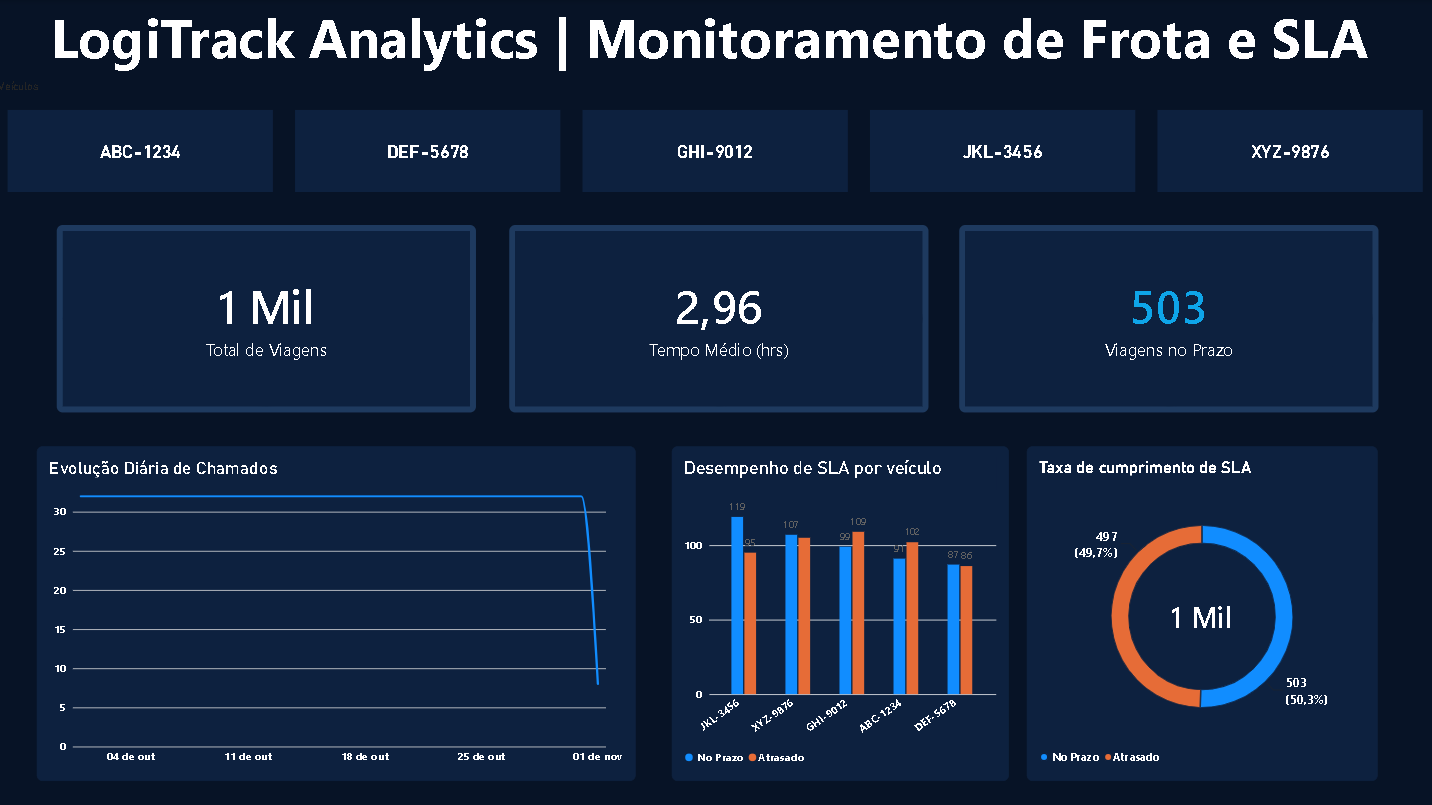

Layout of this report page (visuals, bound fields, positions):
{"tool":"powerbi","page":{"name":"Página 1","canvas":[1920,1080],"ordinal":0},"visuals":[{"type":"textbox","box":[0,0,1920.4,127.6],"z":3000},{"type":"cardVisual","fields":{"Data":["CountNonNull(public vw_fatos_operacao.id_ordem)"]},"box":[78.9,300.8,560,250],"z":3001},{"type":"cardVisual","fields":{"Data":["Avg(public vw_fatos_operacao.horas_ciclo)"]},"box":[683.3,300.8,560,250],"z":3002},{"type":"donutChart","title":"Taxa de cumprimento de SLA ","fields":{"Category":["public vw_fatos_operacao.status_sla"],"Y":["CountNonNull(public vw_fatos_operacao.id_ordem)"]},"box":[1374.6,595.7,468.7,447],"z":3003},{"type":"clusteredColumnChart","title":"Desempenho de SLA por veículo","fields":{"Category":["public vw_fatos_operacao.placa_veiculo"],"Series":["public vw_fatos_operacao.status_sla"],"Y":["CountNonNull(public vw_fatos_operacao.id_ordem)"]},"box":[900.5,595.7,450.6,447],"z":3004},{"type":"lineChart","title":"Evolução Diária de Chamados ","fields":{"Category":["public vw_fatos_operacao.data_chamado"],"Y":["CountNonNull(public vw_fatos_operacao.id_ordem)"]},"box":[51.8,595.7,799.9,447],"z":3005},{"type":"cardVisual","fields":{"Data":["CountNonNull(public vw_fatos_operacao.id_ordem)"]},"box":[1284.1,300.8,560,250],"z":3006},{"type":"advancedSlicerVisual","fields":{"Values":["public vw_fatos_operacao.placa_veiculo"]},"box":[0,106.8,1920.1,159.3],"z":3007}]}

Visuals, with their boxes on the page's 1920x1080 design canvas (x1, y1, x2, y2). These are canvas units, not pixel positions in the 1432x805 screenshot, which may show the page scaled, cropped or inside an application window:
textbox: l=0, t=0, r=1920, b=128
cardVisual - CountNonNull(public vw_fatos_operacao.id_ordem): l=79, t=301, r=639, b=551
cardVisual - Avg(public vw_fatos_operacao.horas_ciclo): l=683, t=301, r=1243, b=551
"Taxa de cumprimento de SLA " donutChart: l=1375, t=596, r=1843, b=1043
"Desempenho de SLA por veículo" clusteredColumnChart: l=900, t=596, r=1351, b=1043
"Evolução Diária de Chamados " lineChart: l=52, t=596, r=852, b=1043
cardVisual - CountNonNull(public vw_fatos_operacao.id_ordem): l=1284, t=301, r=1844, b=551
advancedSlicerVisual - public vw_fatos_operacao.placa_veiculo: l=0, t=107, r=1920, b=266
